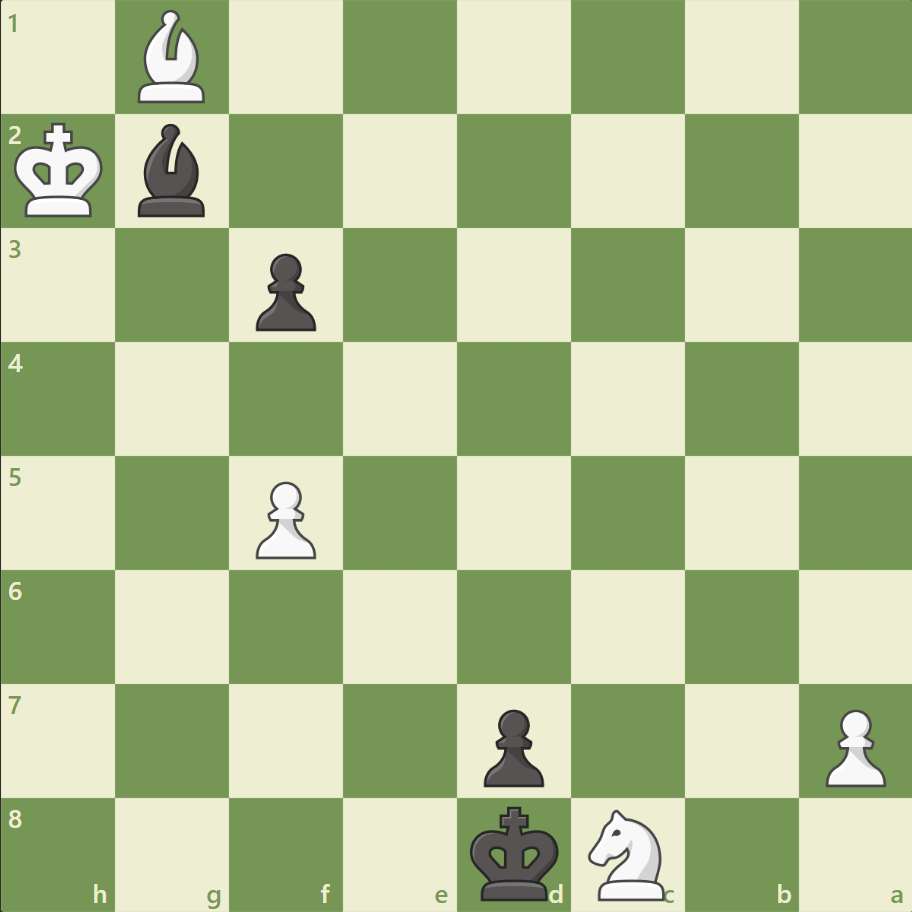B: (131, 6, 215, 109)
K: (11, 117, 111, 225)
N: (579, 802, 676, 904)
P: (247, 473, 322, 564), (815, 700, 889, 791)
b: (131, 120, 215, 222)
k: (465, 798, 565, 906)
p: (474, 700, 549, 791), (247, 246, 322, 337)
